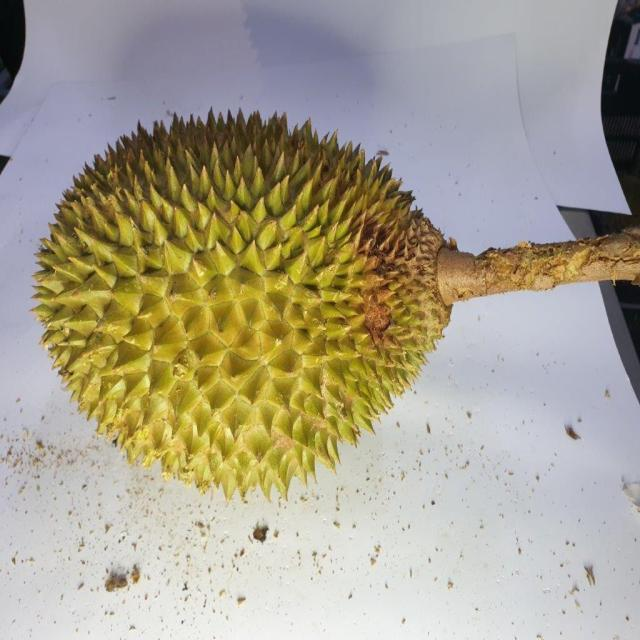defective: (31, 101, 459, 503)
